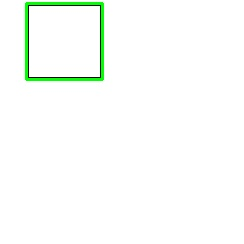line_segment: (25, 2, 104, 81)
